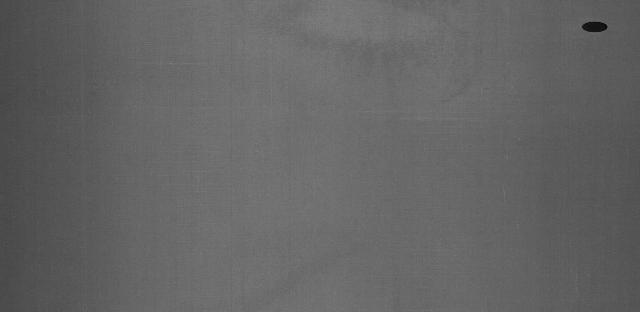punching_hole: (580, 19, 612, 36)
